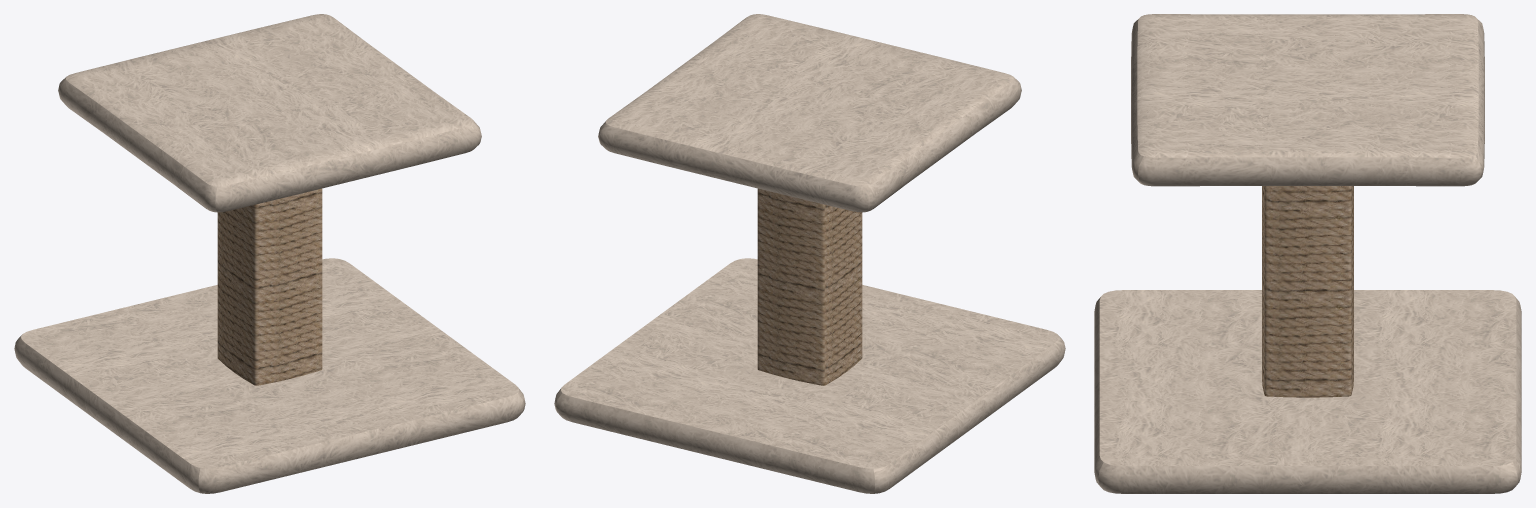
The model's file is Plaggy_CC0_CatTree.glb.
The picture shows the model from 3 angles, left to right: view 1: azimuth 30°, elevation 25°; view 2: azimuth 150°, elevation 25°; view 3: azimuth 270°, elevation 25°; orthographic projection. The views are drawn at different scales.
Visible parts, largest first — view 1: CatTree; view 2: CatTree; view 3: CatTree.
Boxes of the visible parts, x1,y1,x2,y2 form: CatTree: (14, 14, 525, 493); CatTree: (554, 14, 1065, 493); CatTree: (1094, 14, 1521, 493).
Bounding box in the file's own units: 6.86 × 5.7 × 6.86.
1 material, 1 textured.
